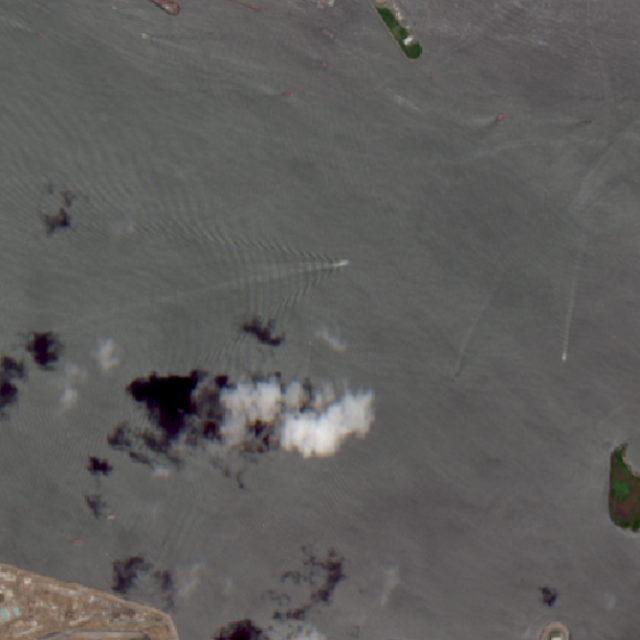wake: (185, 215, 367, 332)
